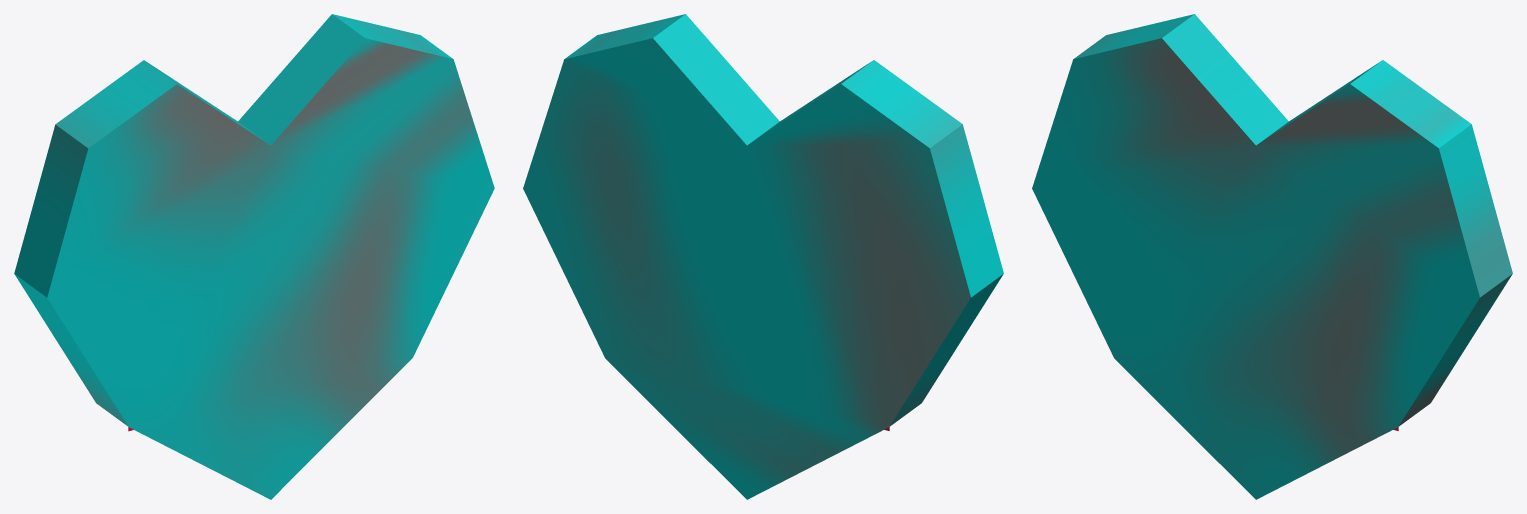
Rendered from Piece_of_heart.obj.
The picture shows the model from 3 angles, left to right: view 1: azimuth 30°, elevation 25°; view 2: azimuth 150°, elevation 25°; view 3: azimuth 330°, elevation 25°; orthographic projection.
Bounding box in the file's own units: 18.62 × 17.44 × 2.39.
Materials: 2 (2 with a texture image).
